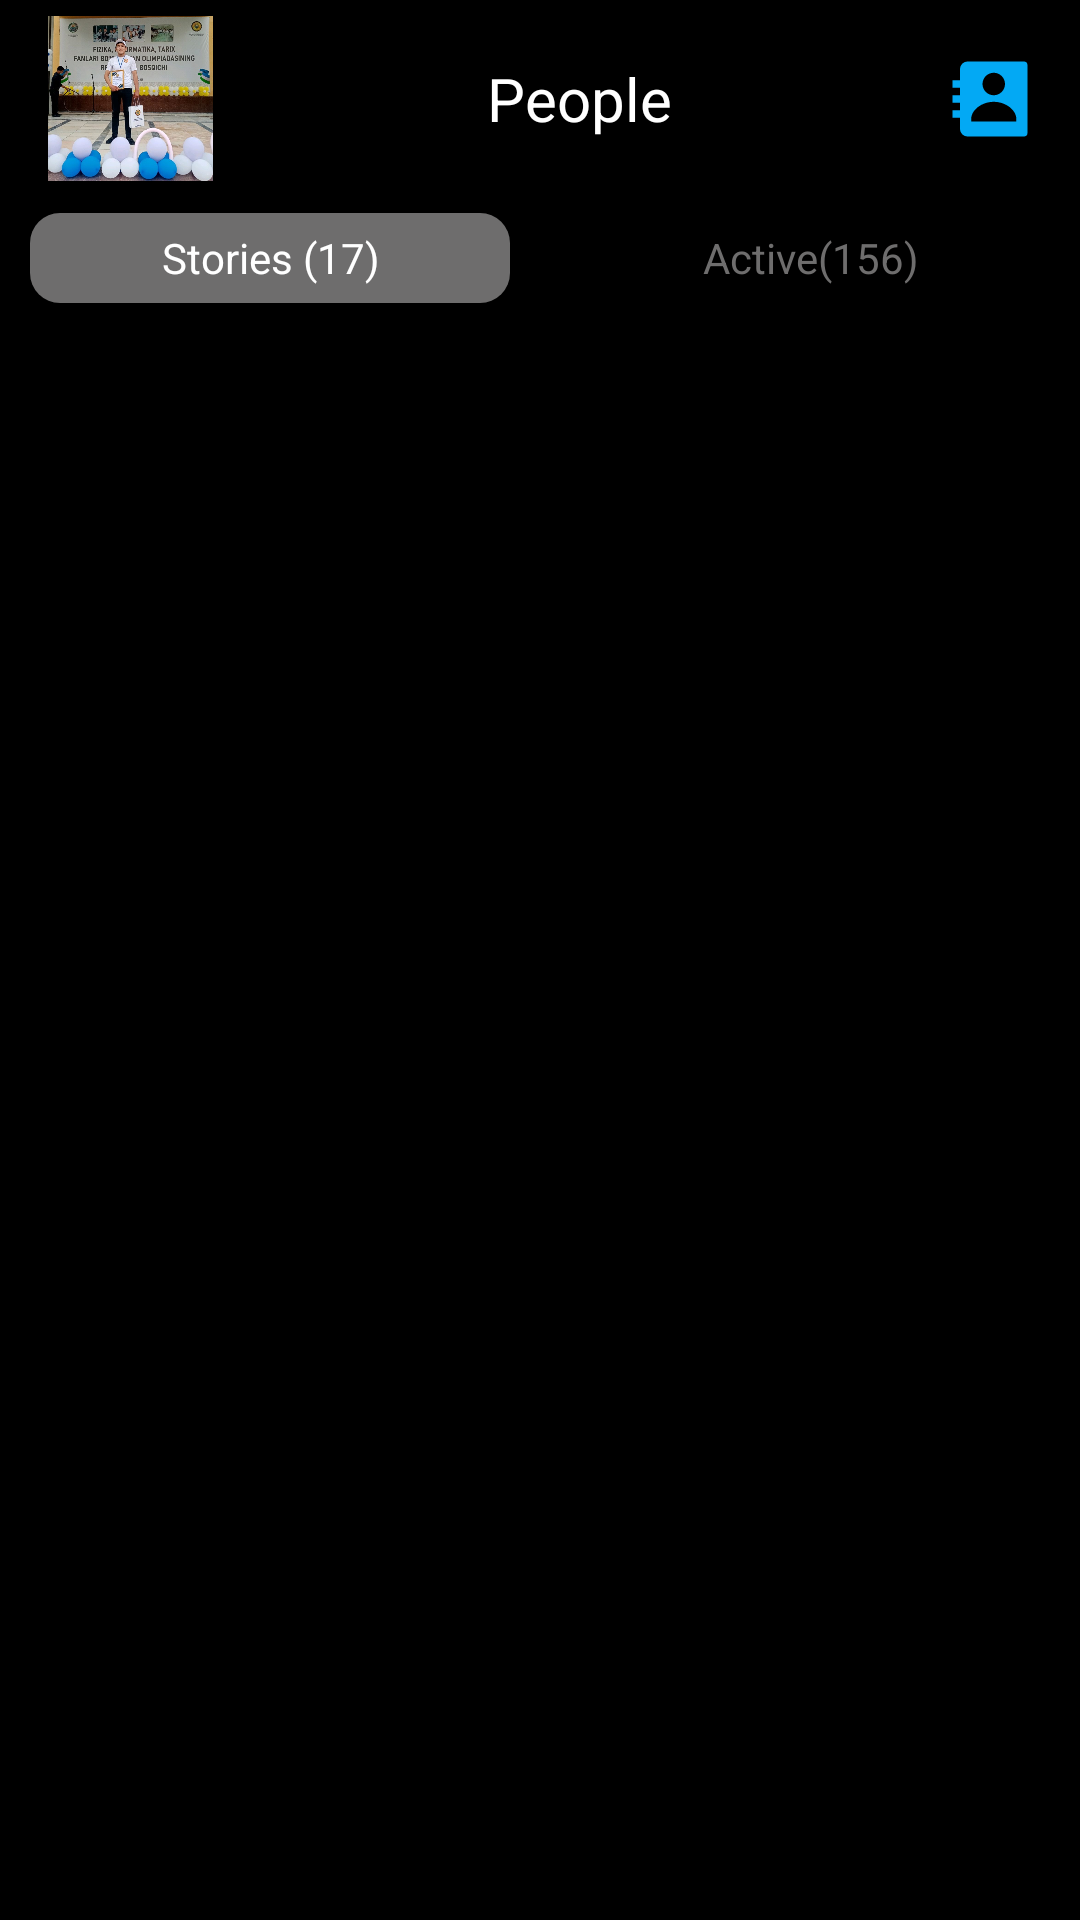

Locate icon controls on the screen. Image size 1080x1920, boxes as (x1, y1, x2, y2).
contact: (952, 61, 1028, 137)
user: (48, 16, 213, 181)
